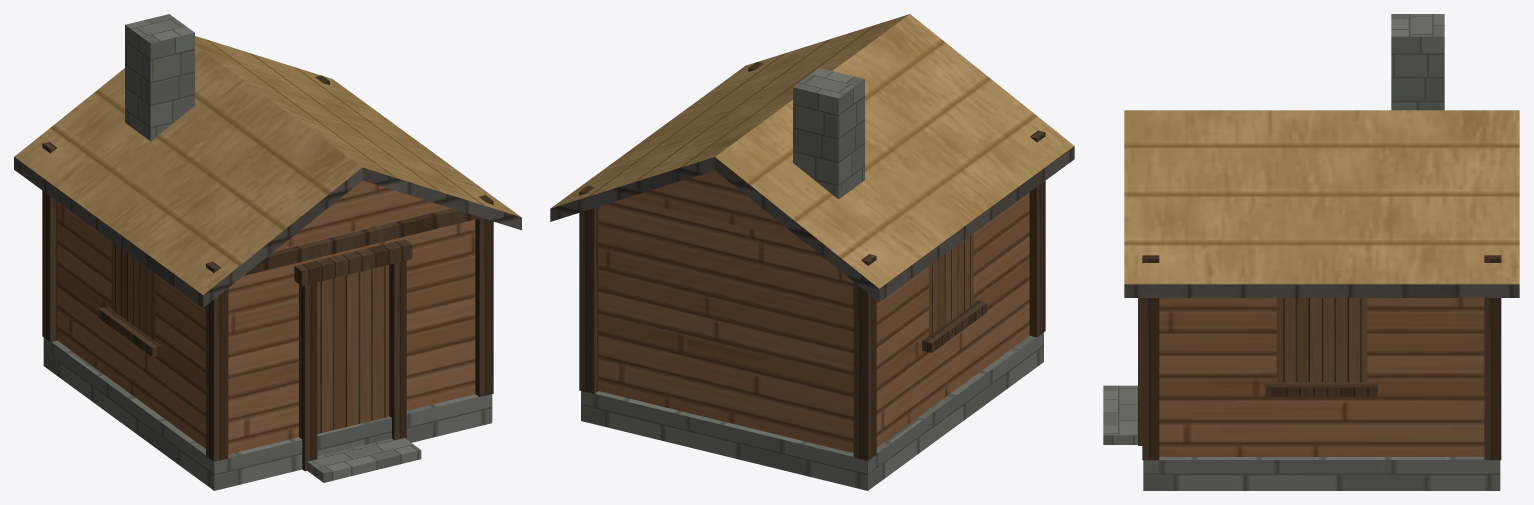
Rendered from ae_sand_wood_small_hut_lod0.glb.
3 views of the same model, side by side, from view 1: azimuth 30°, elevation 25°; view 2: azimuth 150°, elevation 25°; view 3: azimuth 270°, elevation 25° (orthographic). The views are drawn at different scales.
Visible parts, largest first — view 1: ae_sand_wood_small_hut_lod0; view 2: ae_sand_wood_small_hut_lod0; view 3: ae_sand_wood_small_hut_lod0.
Boxes of the visible parts, bbox=[...] form: ae_sand_wood_small_hut_lod0: bbox=[14, 14, 521, 490]; ae_sand_wood_small_hut_lod0: bbox=[550, 14, 1074, 490]; ae_sand_wood_small_hut_lod0: bbox=[1103, 14, 1519, 490].
Bounding box in the file's own units: 3.6 × 3.75 × 3.9.
Materials: 1 (1 with a texture image).
